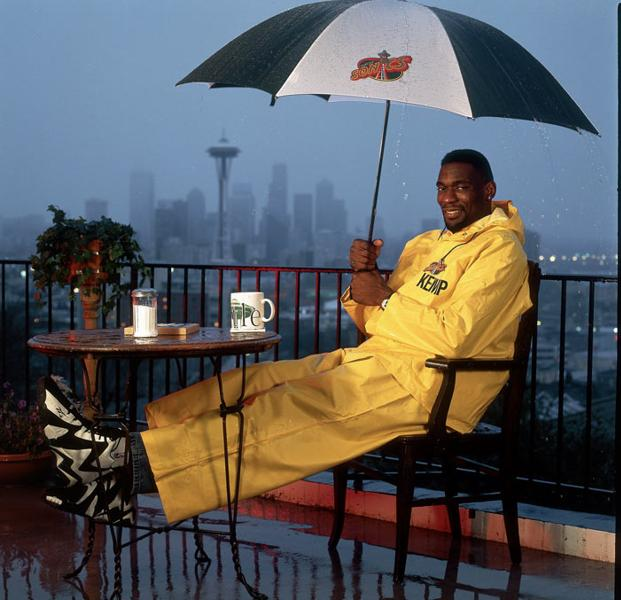person: (41, 149, 533, 529)
